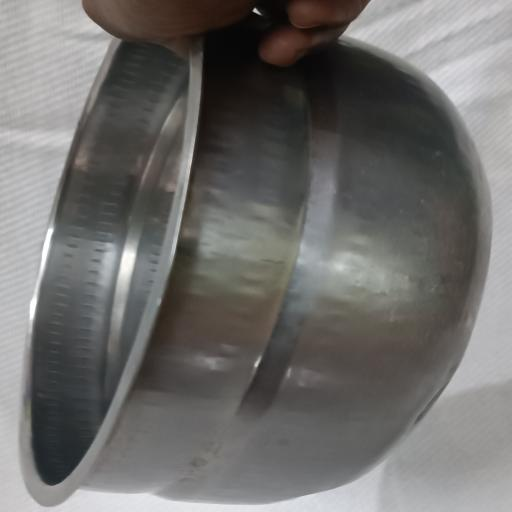vessel: (21, 14, 491, 505)
